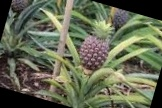Pineapple: (79, 18, 113, 71)
